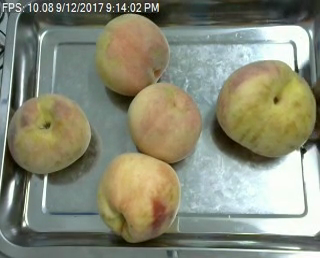Peach: (215, 59, 318, 157), (96, 152, 181, 242), (8, 92, 92, 173), (94, 13, 170, 95), (127, 81, 201, 162)
